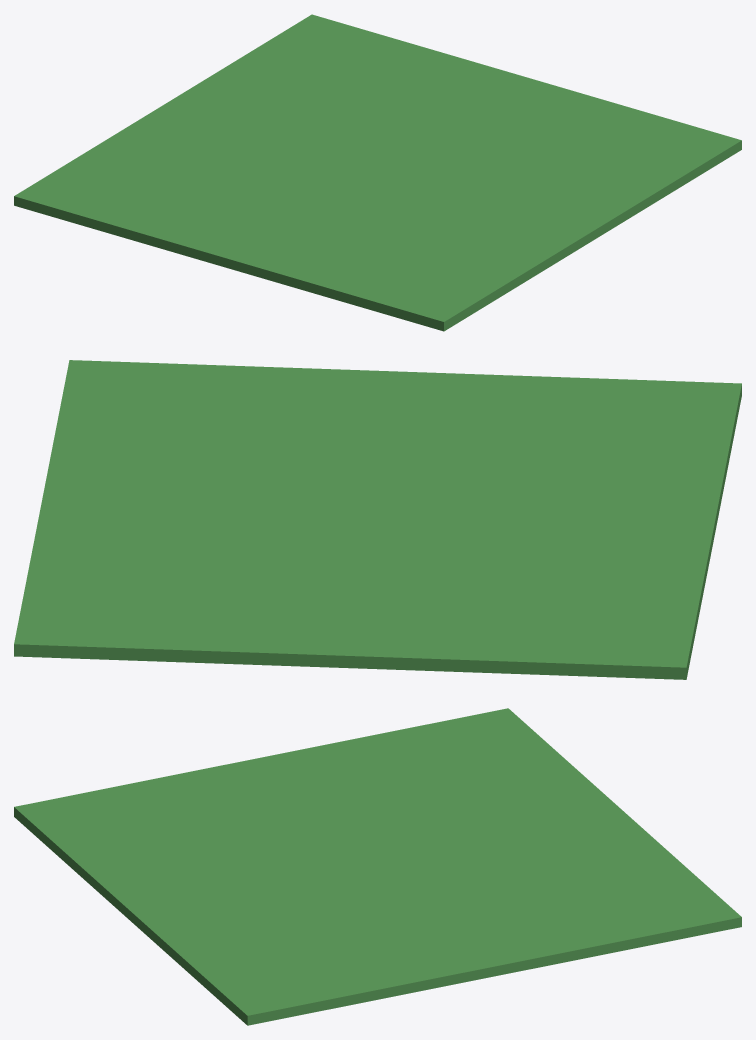
Rendered from Carpet.fbx.
The picture shows the model from 3 angles, top to bottom: view 1: azimuth 30°, elevation 25°; view 2: azimuth 150°, elevation 25°; view 3: azimuth 270°, elevation 25°; orthographic projection. The views are drawn at different scales.
Parts seen in each view (by area): view 1: Carpet; view 2: Carpet; view 3: Carpet.
Boxes of the visible parts, <box> form: Carpet: <box>14,14,741,331</box>; Carpet: <box>14,360,741,679</box>; Carpet: <box>14,708,741,1025</box>.
Bounding box in the file's own units: 1620 × 24.34 × 1620.
